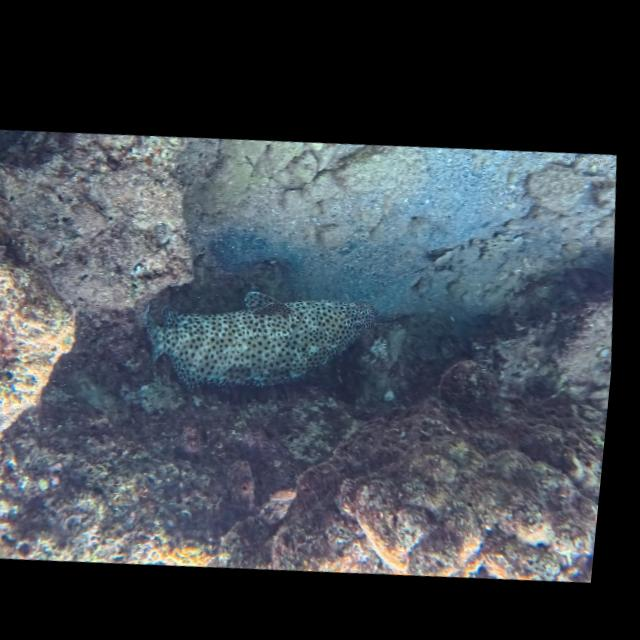Groupers: (127, 266, 388, 415)
